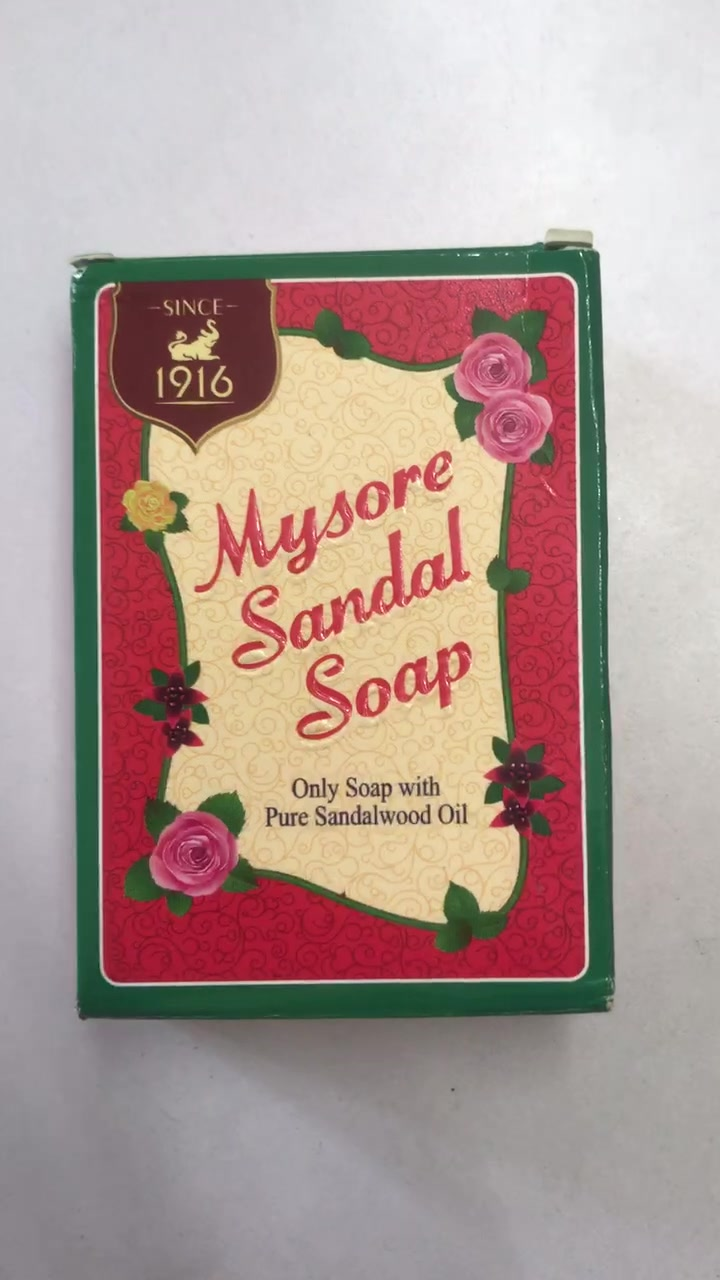mysore sandal soap: (85, 255, 605, 1016)
